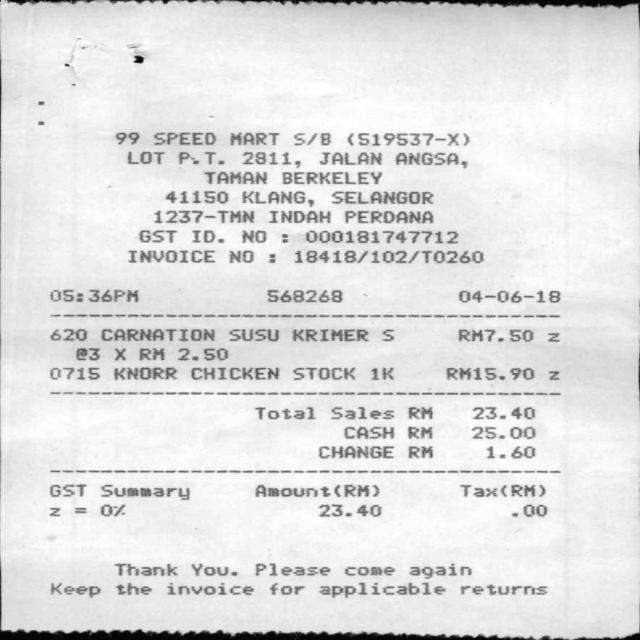text: (292, 250, 484, 263), (317, 581, 444, 597), (303, 230, 457, 243), (346, 132, 468, 145), (254, 484, 378, 496), (100, 328, 213, 340), (152, 209, 255, 222), (99, 484, 188, 499), (330, 190, 432, 203), (457, 289, 559, 302), (281, 171, 381, 183), (444, 366, 533, 379), (190, 366, 278, 379), (128, 249, 214, 262), (342, 210, 432, 222), (265, 289, 342, 303), (49, 290, 138, 302), (317, 444, 393, 458), (165, 582, 253, 594), (458, 484, 544, 496), (408, 562, 471, 578), (290, 328, 367, 341), (457, 328, 532, 341), (255, 562, 329, 575), (394, 151, 458, 165), (163, 189, 226, 203), (460, 584, 546, 594), (201, 170, 266, 183), (240, 190, 304, 203), (291, 366, 354, 379), (113, 366, 175, 379), (317, 503, 379, 516), (48, 581, 98, 597), (153, 131, 214, 144), (319, 151, 380, 164), (268, 209, 329, 222), (469, 426, 534, 438), (330, 406, 393, 418), (470, 406, 533, 418), (114, 563, 176, 575), (254, 406, 314, 418), (227, 327, 278, 341), (241, 151, 290, 165), (175, 347, 227, 360), (48, 366, 98, 379), (229, 132, 278, 145), (343, 425, 392, 438), (485, 445, 534, 458), (178, 151, 223, 164), (191, 563, 236, 575), (137, 229, 176, 242), (126, 150, 164, 163), (48, 483, 85, 496), (342, 566, 393, 575), (48, 328, 86, 340), (294, 132, 329, 145), (512, 503, 546, 516), (115, 582, 150, 594), (268, 583, 304, 594), (192, 229, 222, 242), (137, 347, 163, 360), (113, 131, 138, 144), (240, 229, 265, 242), (227, 249, 252, 262), (74, 347, 98, 360), (407, 406, 431, 419), (98, 504, 124, 516), (407, 425, 430, 438), (407, 445, 431, 457), (370, 366, 392, 379), (113, 347, 124, 360), (48, 506, 62, 516), (381, 328, 392, 340), (546, 332, 558, 341), (548, 370, 558, 380)
